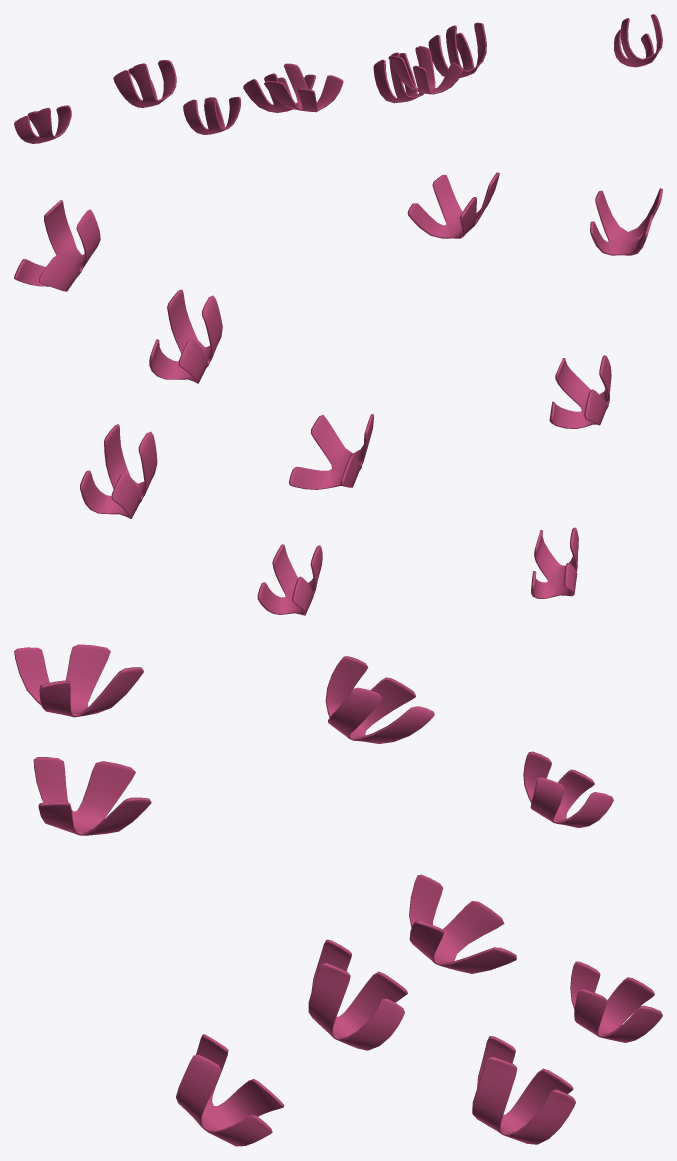
The picture shows the model from 3 angles, top to bottom: view 1: azimuth 30°, elevation 25°; view 2: azimuth 150°, elevation 25°; view 3: azimuth 270°, elevation 25°; orthographic projection. The views are drawn at different scales.
Visible parts, largest first — view 1: 右侧指纤维鞘交叉部; view 2: 右侧指纤维鞘交叉部; view 3: 右侧指纤维鞘交叉部.
Part boxes in pixels (x1,y1,x2,y2): 右侧指纤维鞘交叉部: (14, 14, 662, 143); 右侧指纤维鞘交叉部: (14, 172, 662, 615); 右侧指纤维鞘交叉部: (14, 644, 662, 1146).
Bounding box in the file's own units: 0.1205 × 0.0452 × 0.0825.
